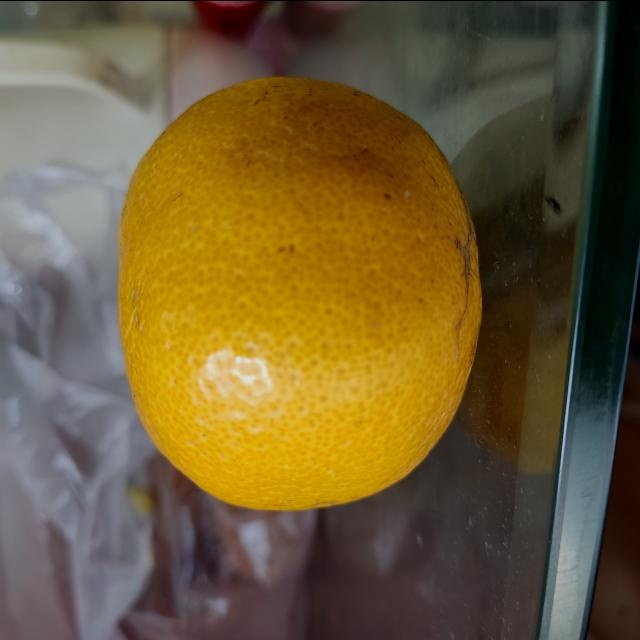agrume: (113, 73, 487, 519)
